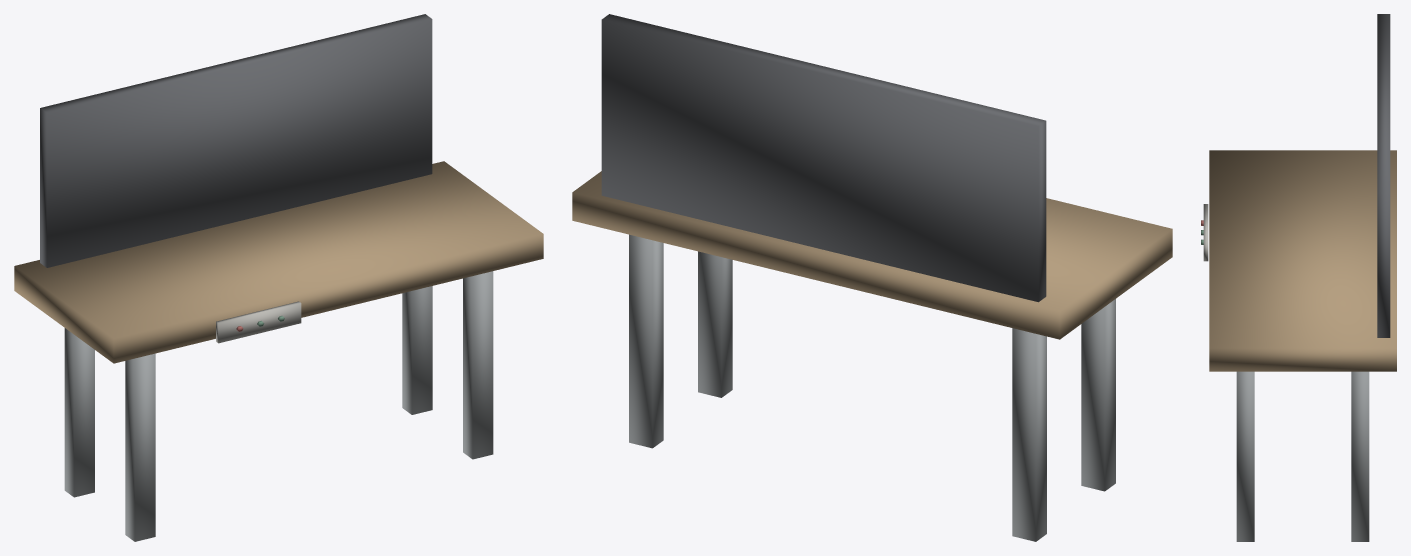
File: basement_workbench__wide.glb
The picture shows the model from 3 angles, left to right: view 1: azimuth 30°, elevation 25°; view 2: azimuth 150°, elevation 25°; view 3: azimuth 270°, elevation 25°; orthographic projection. The views are drawn at different scales.
Parts seen in each view (by area): view 1: world; view 2: world; view 3: world.
Boxes of the visible parts, <box> form: world: <box>14,14,543,541</box>; world: <box>572,14,1172,541</box>; world: <box>1201,14,1396,541</box>.
Size of the model in its own units: 1.8 by 1.51 by 0.751.
